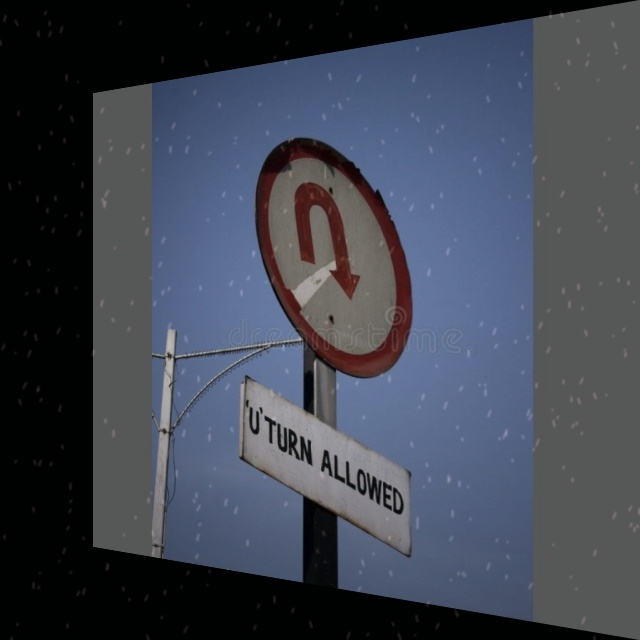U_Turn_Ahead: (257, 108, 433, 382)
